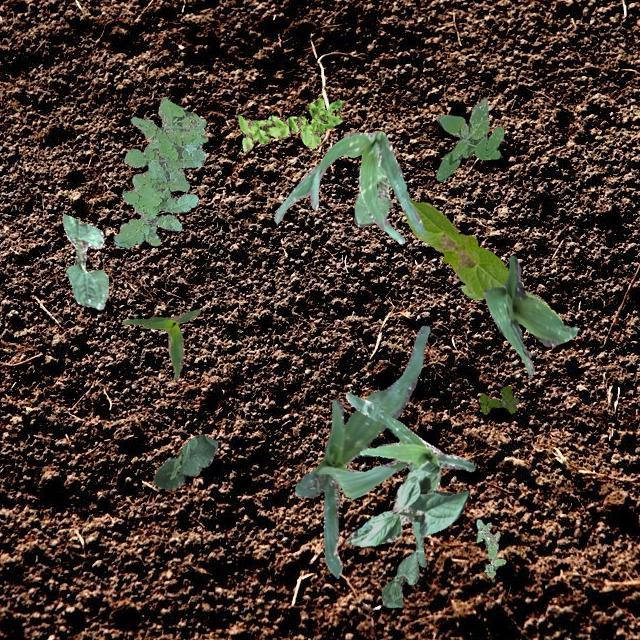crop: (294, 324, 428, 578), (344, 392, 474, 566), (274, 130, 424, 242), (482, 255, 576, 376), (346, 460, 468, 546), (405, 196, 509, 296), (120, 307, 200, 378), (61, 212, 108, 308), (460, 284, 560, 320), (154, 432, 216, 488), (352, 164, 392, 227), (380, 550, 418, 606)
weed: (112, 96, 206, 247), (436, 98, 504, 180), (237, 98, 343, 150), (474, 518, 504, 576), (478, 386, 518, 412)
